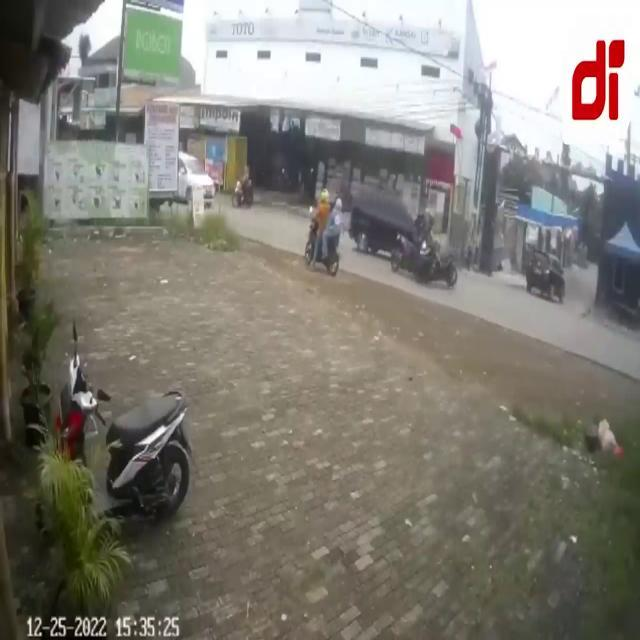multiple_accident: (347, 163, 468, 302)
normal: (519, 229, 578, 310)
